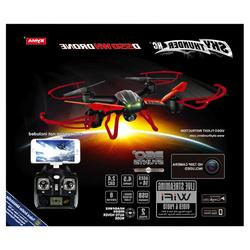drone: (38, 70, 228, 140)
